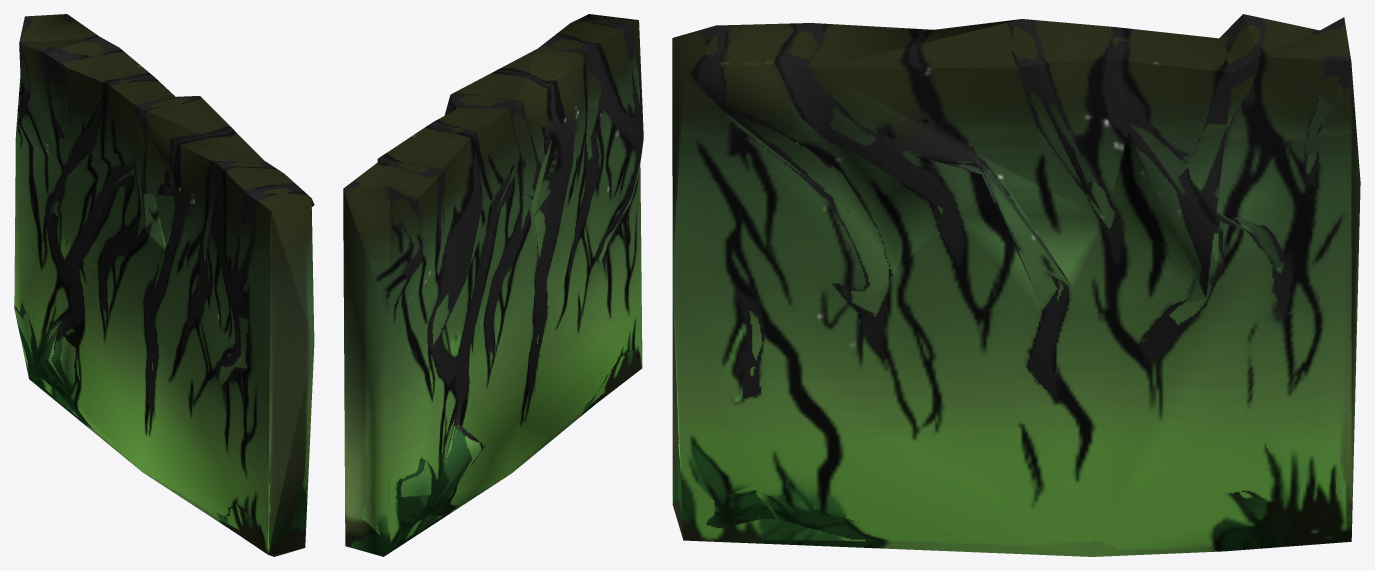
File: vine-wall.glb
The picture shows the model from 3 angles, left to right: view 1: azimuth 30°, elevation 25°; view 2: azimuth 150°, elevation 25°; view 3: azimuth 270°, elevation 25°; orthographic projection. The views are drawn at different scales.
Visible parts, largest first — view 1: geometry_0.001; view 2: geometry_0.001; view 3: geometry_0.001.
Part boxes in pixels (x1=…): geometry_0.001: x1=14, y1=14, x2=314, y2=556; geometry_0.001: x1=343, y1=14, x2=643, y2=556; geometry_0.001: x1=672, y1=14, x2=1360, y2=556.
Bounding box in the file's own units: 0.2314 × 0.819 × 0.9977.
Materials: 1 (1 with a texture image).
